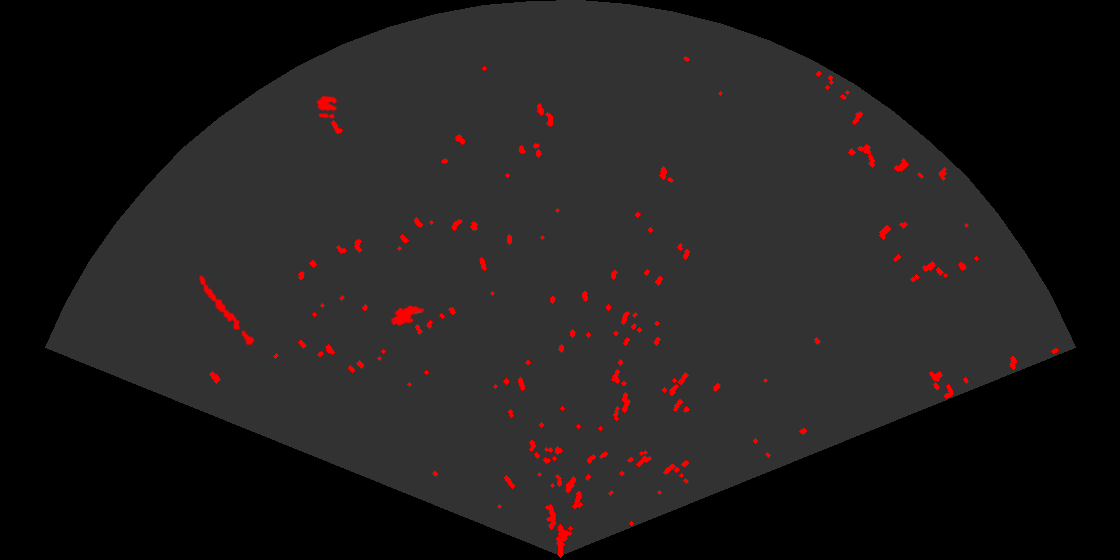AUV: (389, 304, 426, 328)
ball: (315, 94, 339, 120)
chain: (197, 274, 261, 356)
